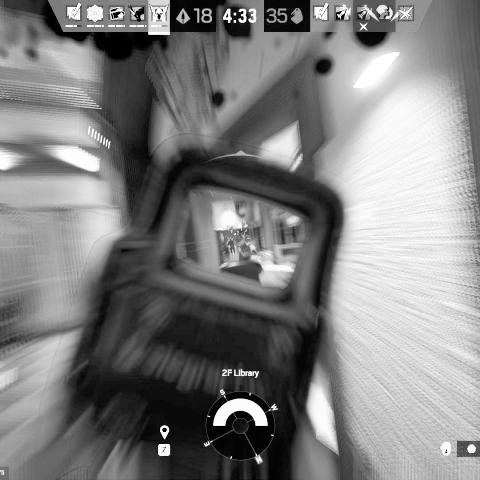Character: (238, 234, 257, 261)
Friend_label: (219, 224, 242, 241)
Head: (244, 235, 252, 246)
